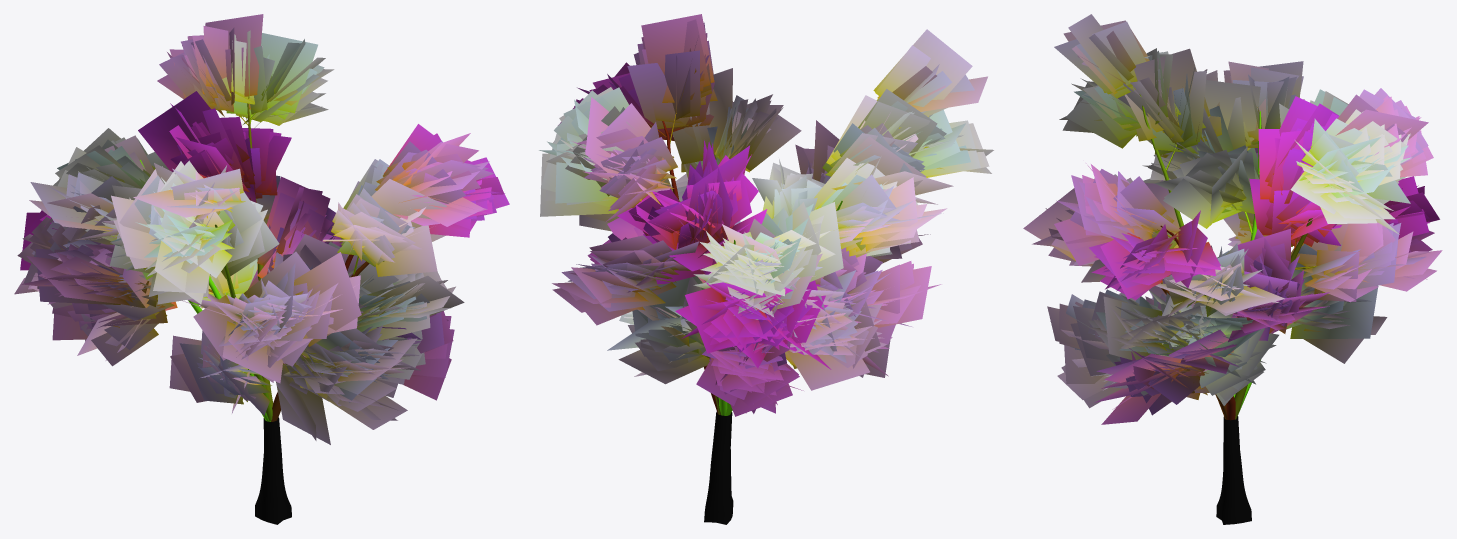
Rendered from tree_zelkova_a.glb.
The picture shows the model from 3 angles, left to right: view 1: azimuth 30°, elevation 25°; view 2: azimuth 150°, elevation 25°; view 3: azimuth 270°, elevation 25°; orthographic projection. The views are drawn at different scales.
Parts seen in each view (by area): view 1: tree_zelkova_a; view 2: tree_zelkova_a; view 3: tree_zelkova_a.
Boxes of the visible parts, x1,y1,x2,y2 form: tree_zelkova_a: (14,14,509,524); tree_zelkova_a: (539,14,993,524); tree_zelkova_a: (1023,14,1442,524).
Bounding box in the file's own units: 12.31 × 12.79 × 11.13.
